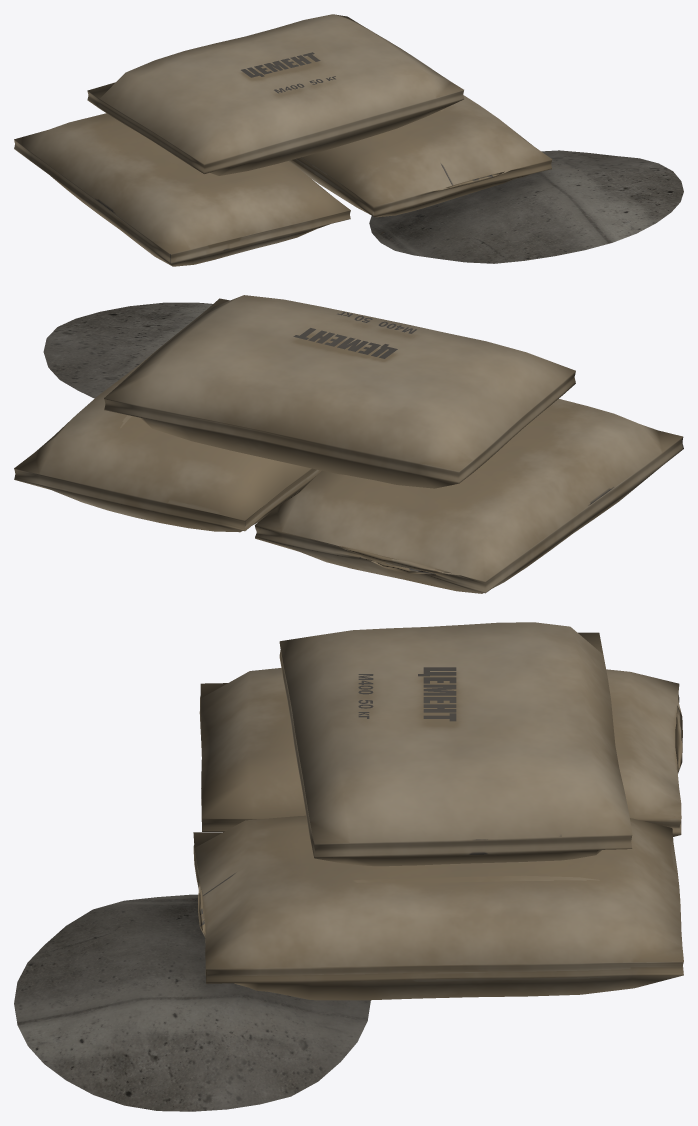
The model's file is CementBags.fbx.
3 renders of one model, top to bottom at view 1: azimuth 30°, elevation 25°; view 2: azimuth 150°, elevation 25°; view 3: azimuth 270°, elevation 25°, orthographic. The views are drawn at different scales.
Visible parts, largest first — view 1: CementBags_Mesh; view 2: CementBags_Mesh; view 3: CementBags_Mesh.
Part boxes in pixels (box(x1,y1,x2,y2)): CementBags_Mesh: box(14, 14, 683, 266); CementBags_Mesh: box(14, 295, 683, 593); CementBags_Mesh: box(14, 622, 683, 1111).
Bounding box in the file's own units: 1.07 × 0.2541 × 0.8111.
